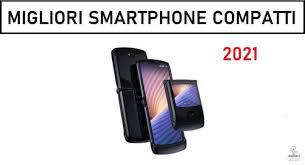Smartphone: (139, 62, 186, 153), (112, 48, 149, 145), (162, 77, 202, 130)
